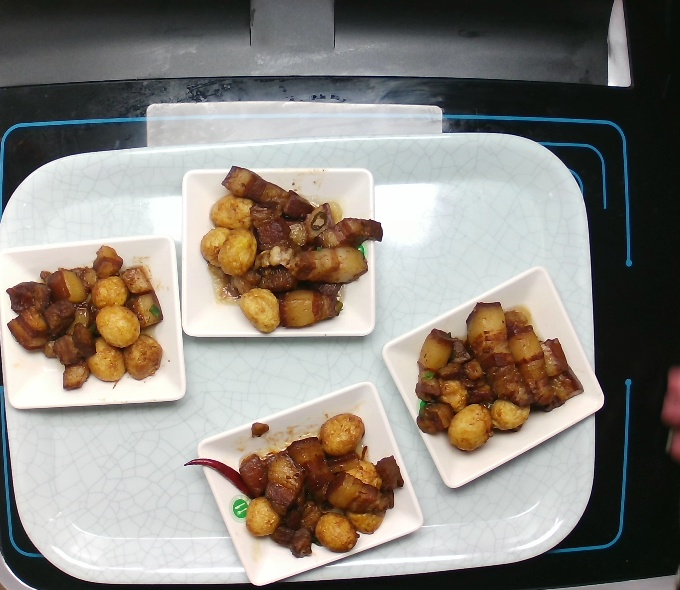wcq-HongShaoRouChaoAnChunDan: (178, 408, 406, 564), (191, 165, 388, 337), (404, 291, 592, 458), (3, 239, 172, 398)
